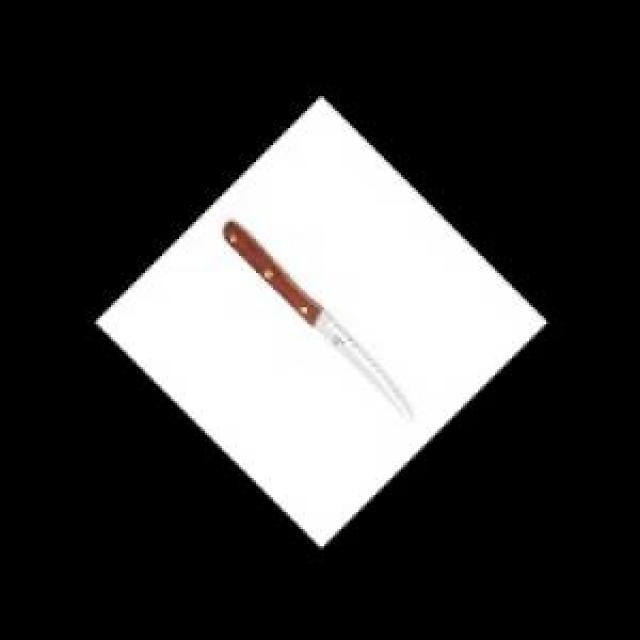knife: (224, 216, 421, 437)
